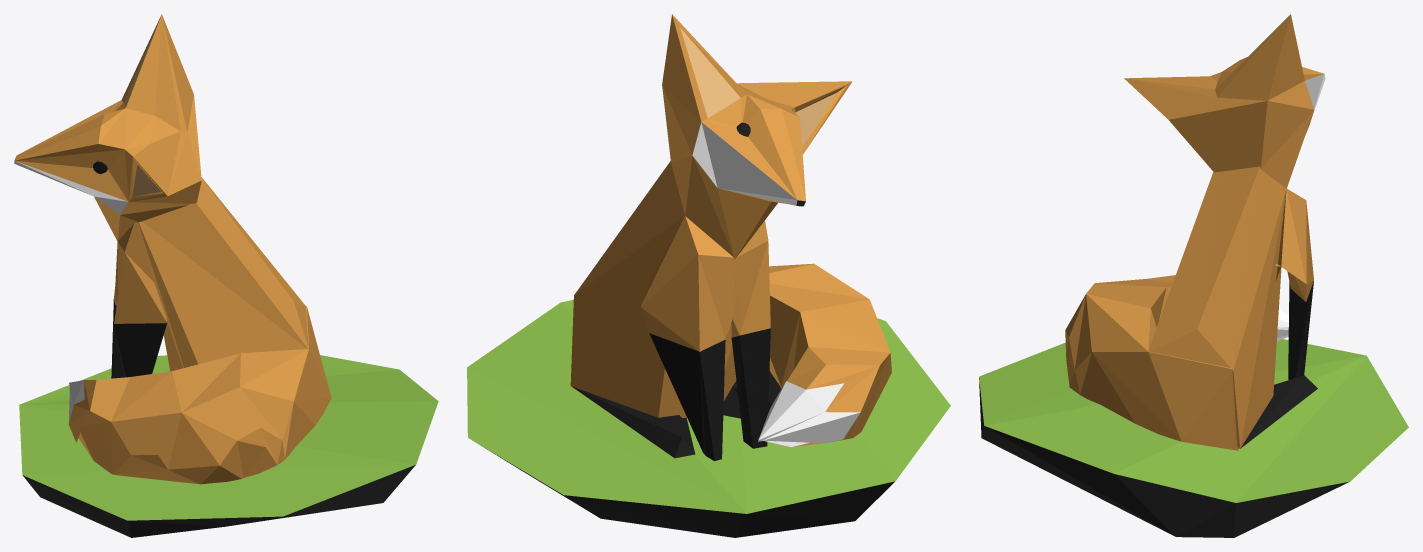
Rendered from animals-little-fox-139.glb.
3 views of the same model, side by side, from view 1: azimuth 30°, elevation 25°; view 2: azimuth 150°, elevation 25°; view 3: azimuth 270°, elevation 25° (orthographic). The views are drawn at different scales.
Visible parts, largest first — view 1: group1900056852, group125599753, group500549351, group1054568923; view 2: group1900056852, group500549351, group1054568923, group125599753; view 3: group1900056852, group500549351, group125599753, group1054568923.
Boxes of the visible parts, bbox=[...] form: group1900056852: bbox=[19, 355, 438, 537]; group125599753: bbox=[68, 306, 331, 484]; group500549351: bbox=[111, 177, 309, 378]; group1054568923: bbox=[14, 14, 201, 241]; group1900056852: bbox=[467, 300, 950, 537]; group500549351: bbox=[570, 161, 781, 461]; group1054568923: bbox=[662, 14, 852, 258]; group125599753: bbox=[573, 263, 891, 447]; group1900056852: bbox=[979, 339, 1408, 537]; group500549351: bbox=[1147, 166, 1317, 448]; group125599753: bbox=[1065, 275, 1288, 450]; group1054568923: bbox=[1124, 14, 1325, 188].
Bounding box in the file's own units: 1.27 × 1.38 × 1.24.
